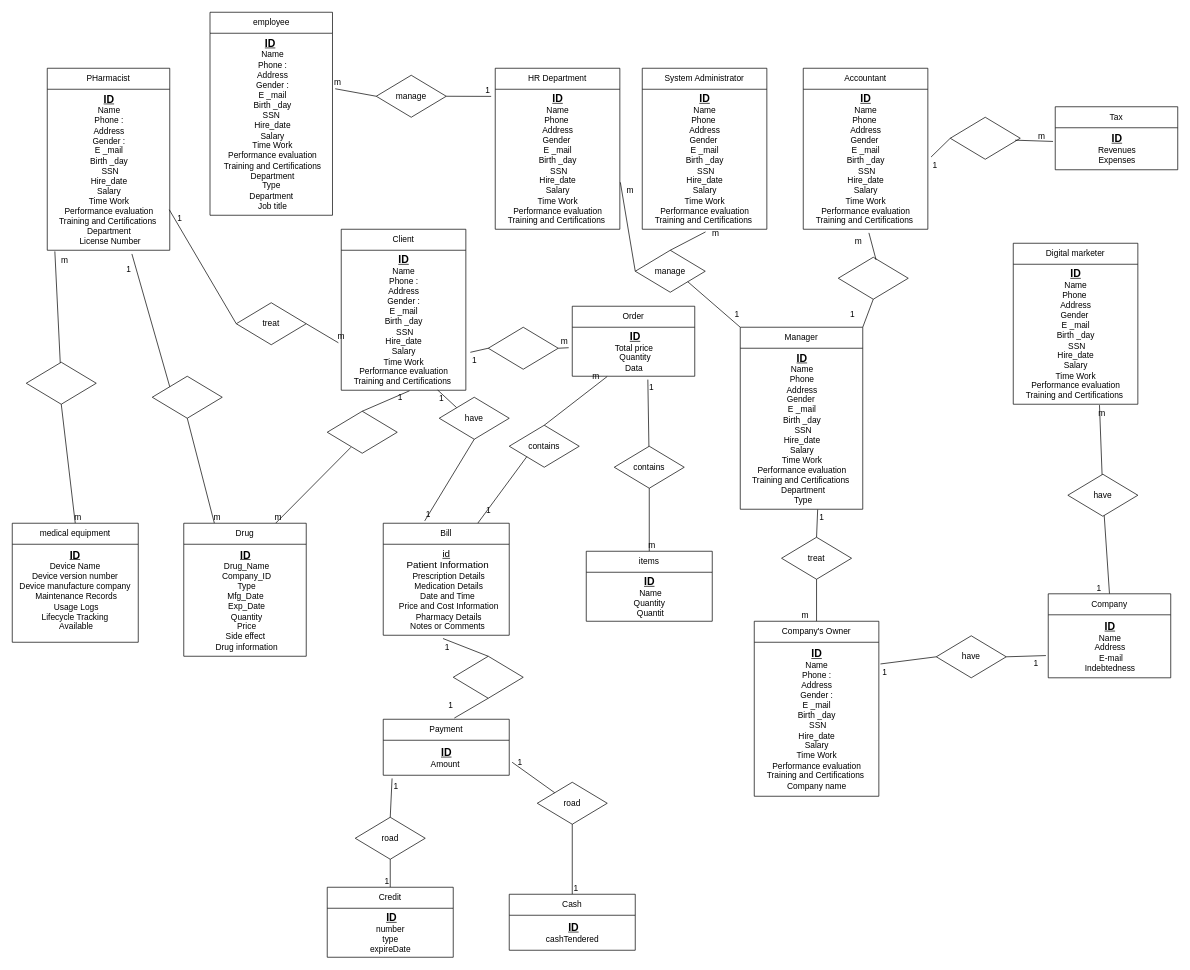
This 1190x970 diagram has some shape labels left out. Here are the shapes that lost their labels. From the top down, the centre of each, then its label:
At [985,138]: "calculate".
At [873,278]: "report".
At [523,348]: "do".
At [61,383]: "use".
At [187,397]: "sold".
At [362,432]: "bought".
At [488,677]: "pay".
